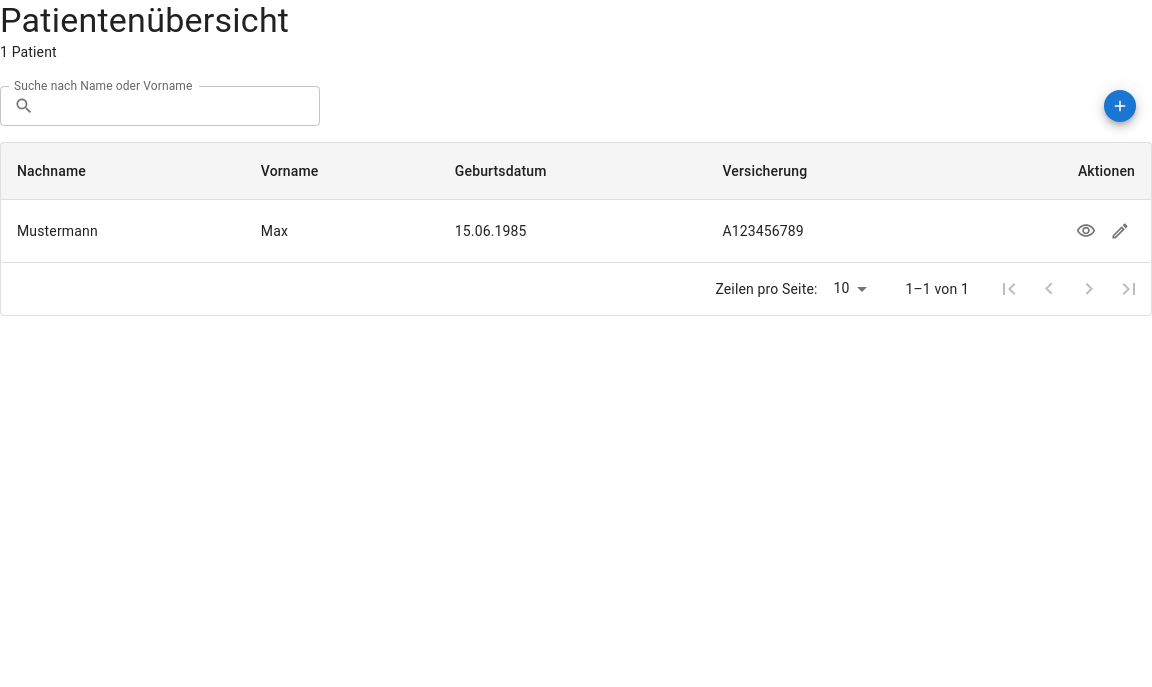
Test: Overview › Bearbeiten › speichert Aenderungen, zeigt eine Erfolgsmeldung und laedt die Liste neu
Click the button named "Patient bearbeiten" at (1120, 231), box [1105,216,1135,246]
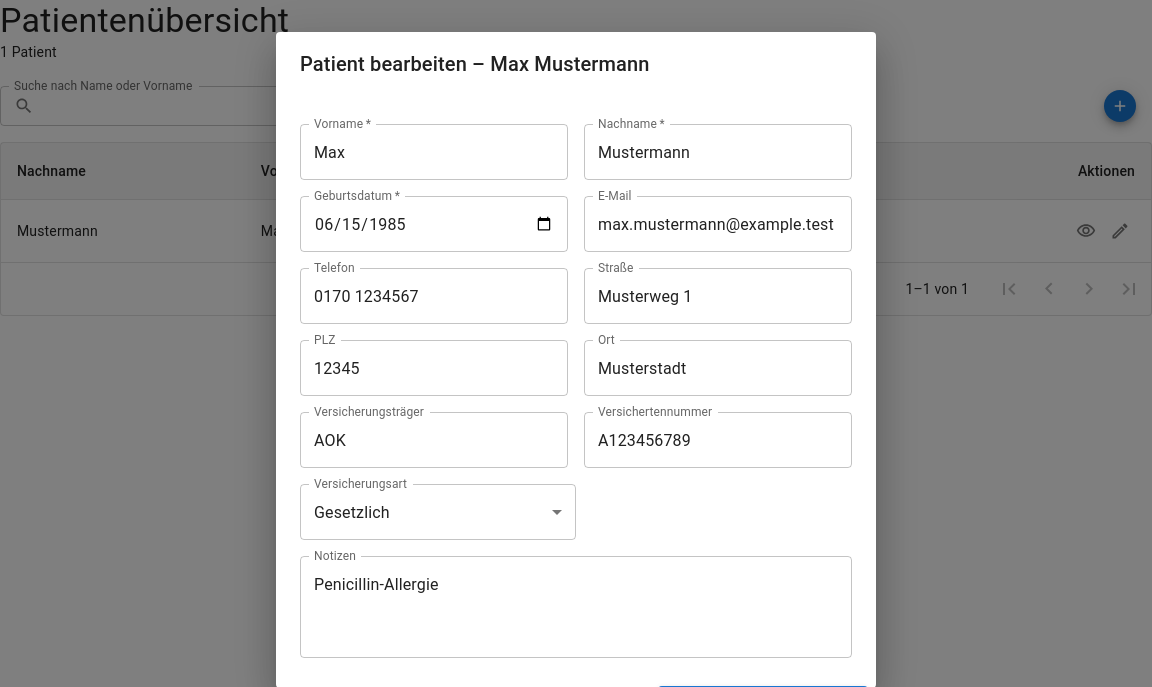
expect the field showing "max.mustermann@example.test" is shown: met, box [584,196,852,252]
Replace the text in the field labelled "Ort" with "Neustadt" at (718, 368), box [584,340,852,396]
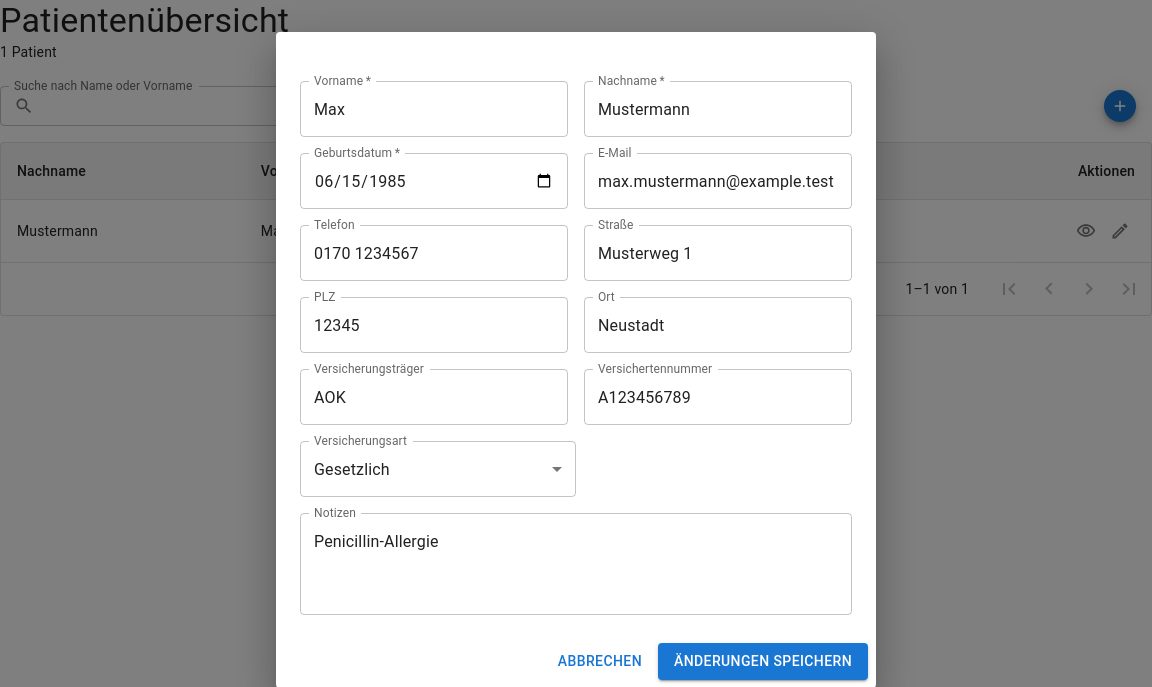
Click the button "Änderungen speichern" at (763, 661), box [658,643,868,680]
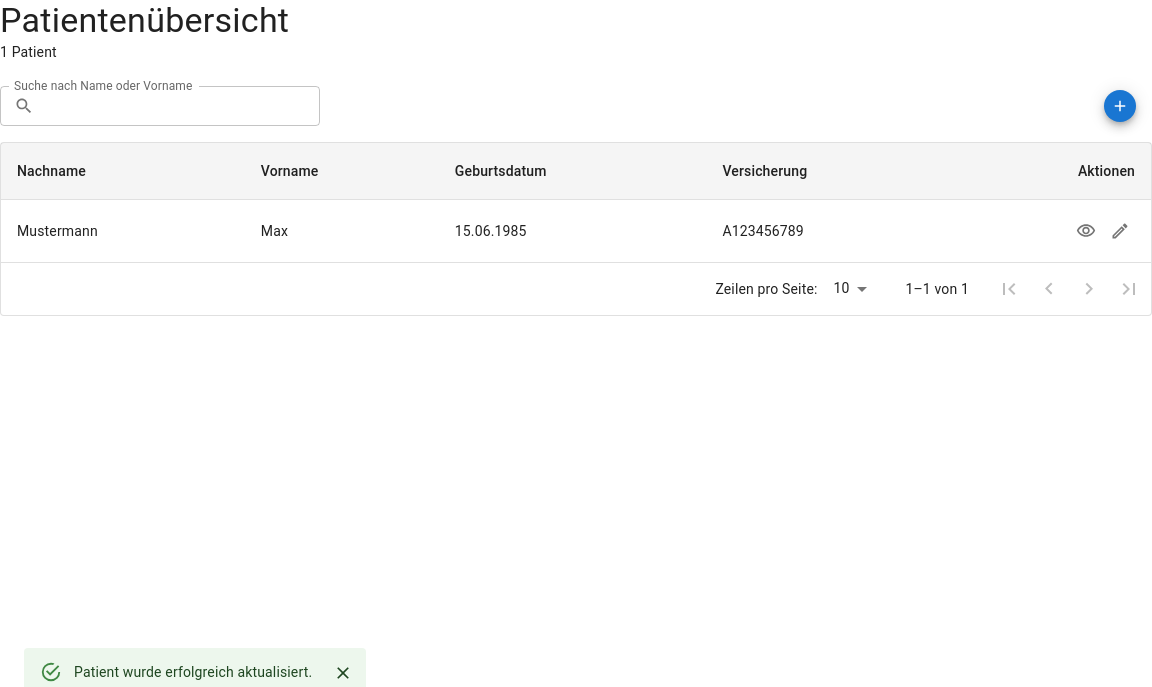
expect the cell "Max" is shown: met, box [245,200,439,262]
expect the text "Patient wurde erfolgreich aktualisiert." is shown: met, box [74,664,312,680]
expect the dialog is gone: met
